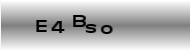4: (50, 20, 65, 33)
B: (71, 14, 86, 27)
E: (35, 18, 47, 32)
o: (99, 24, 113, 34)
s: (85, 23, 96, 33)
